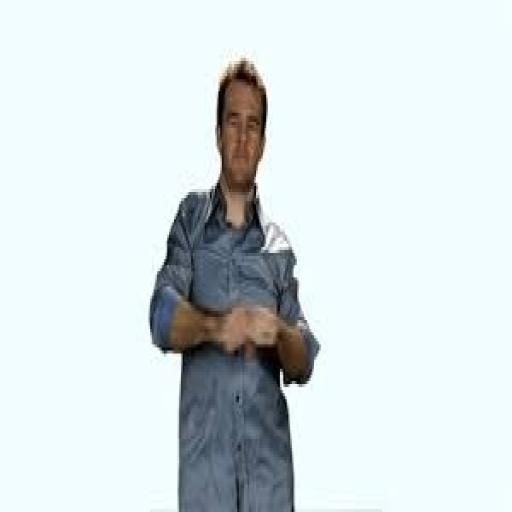dancing: (146, 55, 322, 509)
